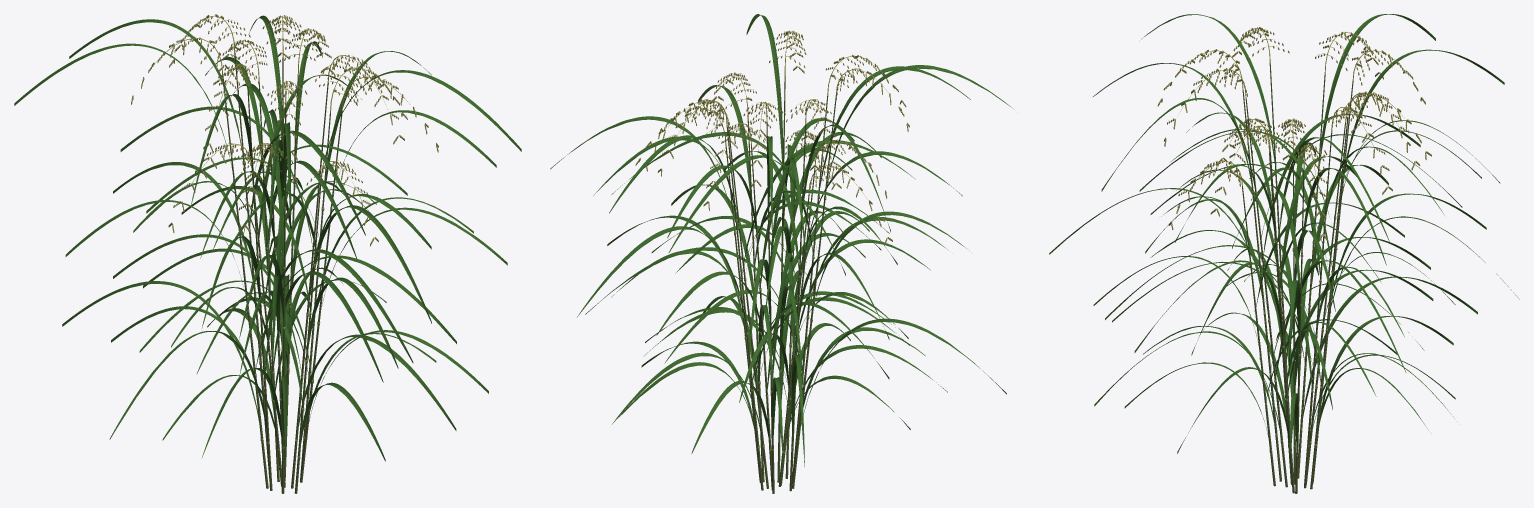
The model's file is rice-4.glb.
3 views of the same model, side by side, from view 1: azimuth 30°, elevation 25°; view 2: azimuth 150°, elevation 25°; view 3: azimuth 270°, elevation 25° (orthographic). The views are drawn at different scales.
Parts seen in each view (by area): view 1: grass-leaf, stem, grain, rachis, nodes; view 2: grass-leaf, stem, grain, rachis; view 3: grass-leaf, stem, grain, rachis.
Boxes of the visible parts, box(x1,y1,x2,y2) form: grass-leaf: box(14, 15, 521, 461); stem: box(222, 50, 342, 493); grain: box(131, 14, 438, 246); rachis: box(143, 15, 425, 239); nodes: box(233, 161, 332, 458); grass-leaf: box(550, 14, 1011, 466); stem: box(725, 75, 836, 493); grain: box(635, 30, 909, 245); rachis: box(640, 31, 902, 218); grass-leaf: box(1049, 14, 1519, 466); stem: box(1242, 62, 1353, 493); grain: box(1157, 27, 1431, 241); rachis: box(1162, 28, 1421, 234).
Size of the model in its own units: 1.07 by 1.13 by 1.13.
Materials: 4 (3 with a texture image).
